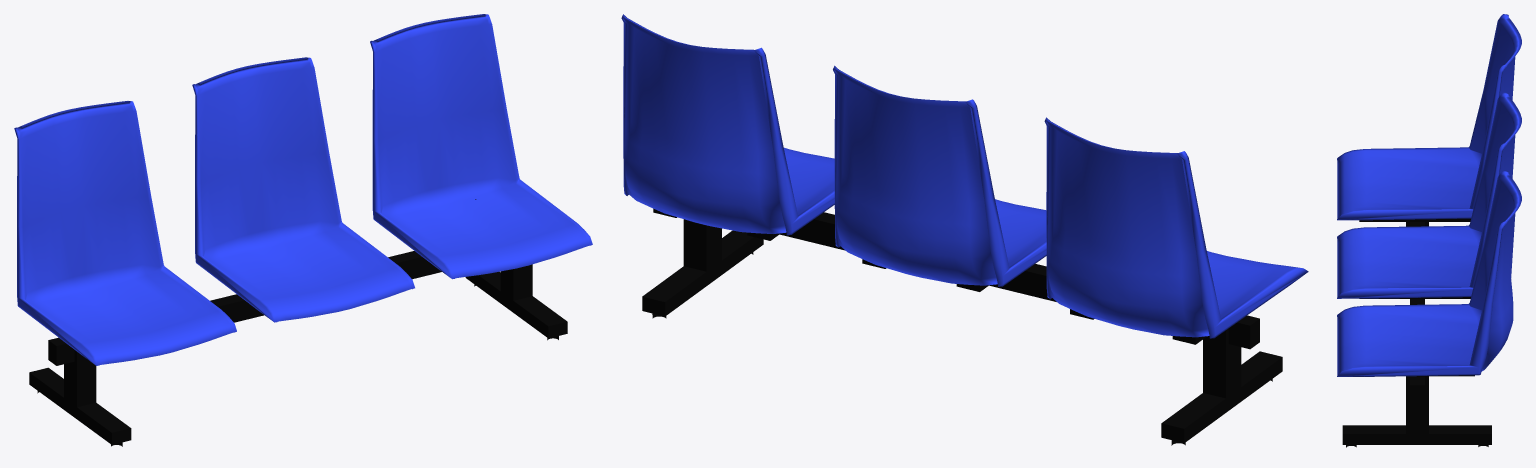
Rendered from Ground Floor Chairs (3 Chairs).fbx.
The picture shows the model from 3 angles, left to right: view 1: azimuth 30°, elevation 25°; view 2: azimuth 150°, elevation 25°; view 3: azimuth 270°, elevation 25°; orthographic projection. The views are drawn at different scales.
Parts seen in each view (by area): view 1: Chairs; view 2: Chairs; view 3: Chairs.
Part boxes in pixels (x1,y1,x2,y2): Chairs: (14,14,592,446); Chairs: (621,14,1308,445); Chairs: (1337,14,1521,447).
Size of the model in its own units: 705 by 355 by 252.
